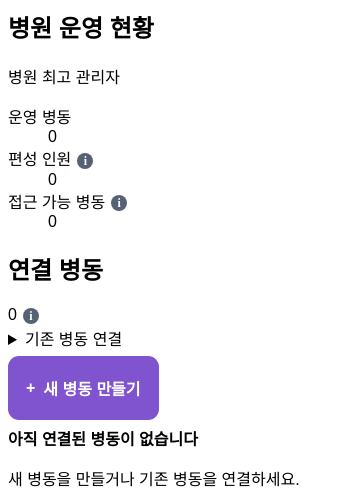
Test: hospital ward access › explains the owner and manager access rules without permanent explanatory text
This screenshot has width=341, height=504.
What coordinates should you click on to do the following:
click the button named "병동 연결·권한 안내"
I would click on:
 (31, 316)
Its box is [9,294,53,338].
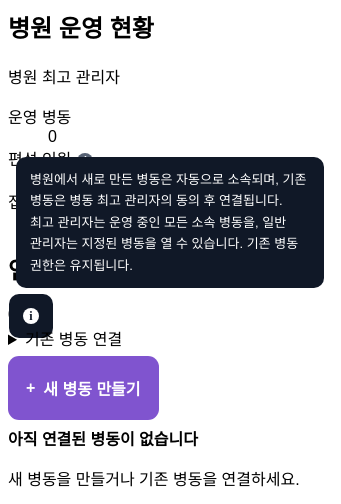
Now the tooltip shows "최고 관리자는 운영 중인 모든 소속 병동", box [30,172,306,273]
Now the tooltip shows "일반 관리자는 지정된 병동", box [30,172,306,273]
Now the tooltip shows "기존 병동 권한은 유지", box [30,172,306,273]
